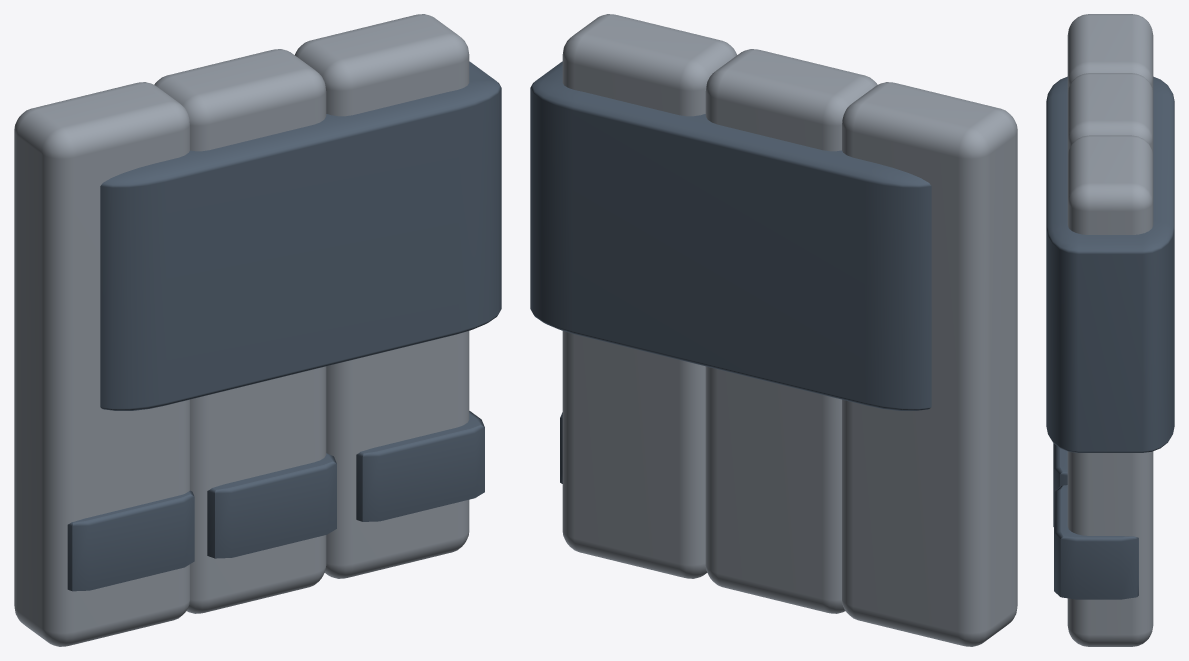
File: home 4.fbx
3 renders of one model, left to right at view 1: azimuth 30°, elevation 25°; view 2: azimuth 150°, elevation 25°; view 3: azimuth 270°, elevation 25°, orthographic. The views are drawn at different scales.
Visible parts, largest first — view 1: polySurface3954; view 2: polySurface3954; view 3: polySurface3954.
Boxes of the visible parts, <box> form: polySurface3954: <box>14,14,501,646</box>; polySurface3954: <box>530,14,1017,646</box>; polySurface3954: <box>1046,14,1174,646</box>.
Size of the model in its own units: 91.63 by 100 by 25.26.
